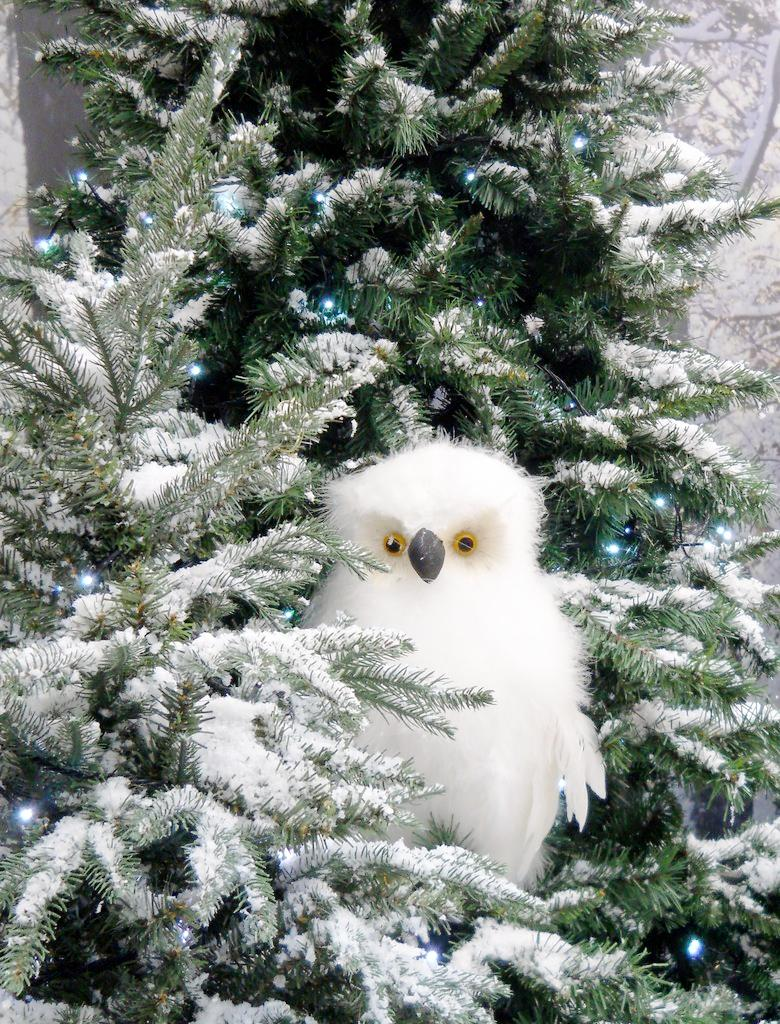Owl: (268, 414, 643, 882)
